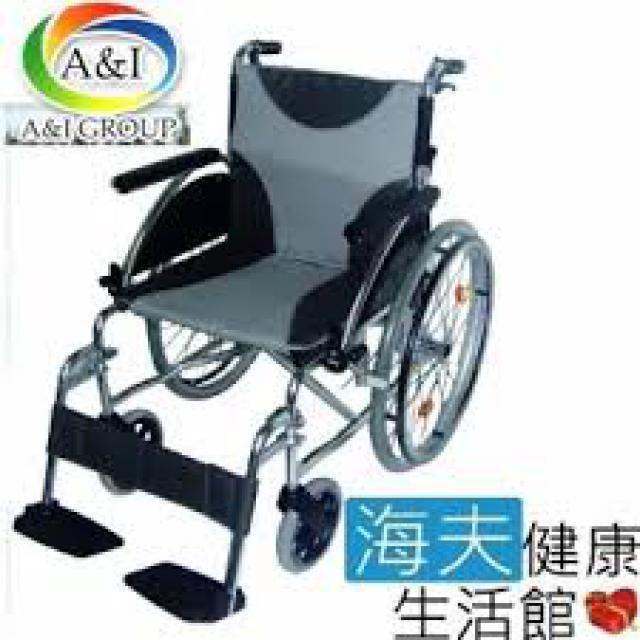wheelchair: (5, 31, 498, 637)
